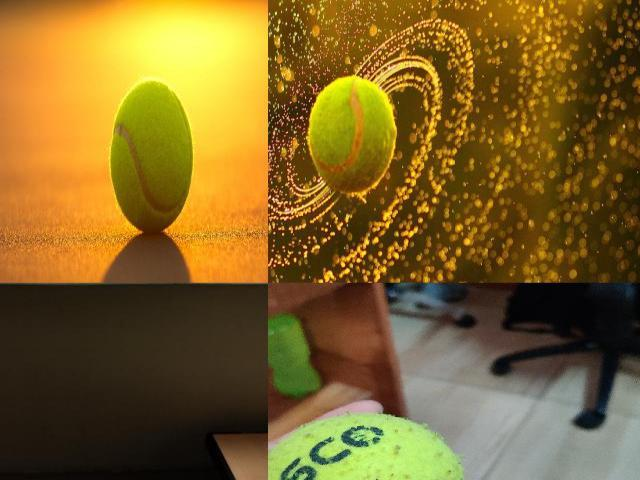tennis-ball: (268, 412, 468, 479), (109, 80, 193, 232), (308, 76, 396, 192)
